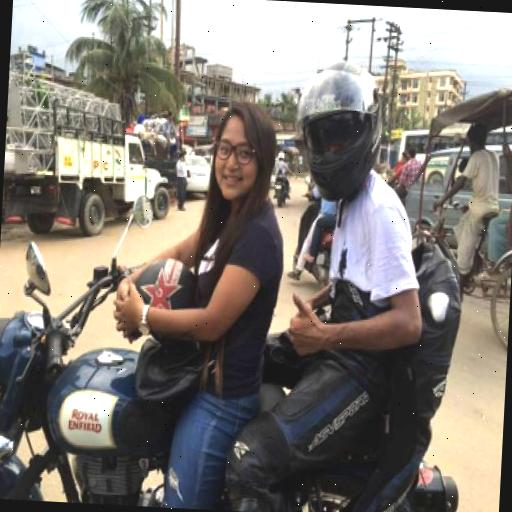no helmet: (1, 86, 288, 511)
